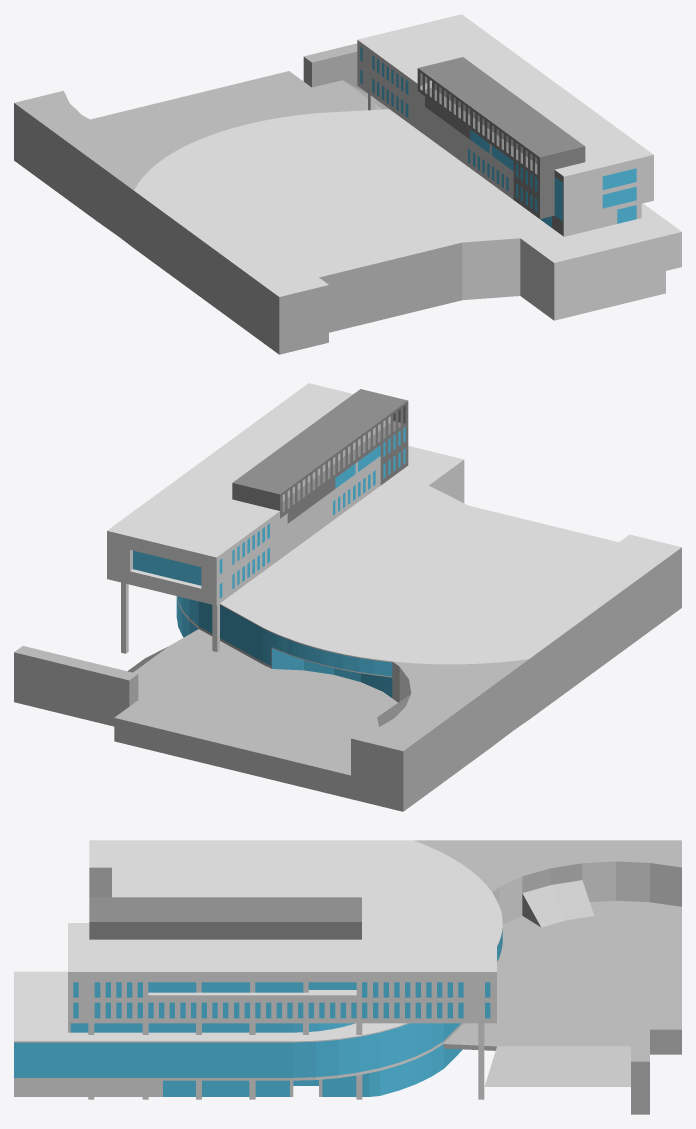
Rendered from KWSquare.glb.
3 renders of one model, top to bottom at view 1: azimuth 30°, elevation 25°; view 2: azimuth 150°, elevation 25°; view 3: azimuth 270°, elevation 25°, orthographic. The views are drawn at different scales.
Parts seen in each view (by area): view 1: White, Grey, Dark, Window; view 2: White, Grey, Dark, Window; view 3: White, Grey, Window, Dark.
Part boxes in pixels (x1,y1,x2,y2): White: (134, 14, 681, 320); Grey: (14, 43, 462, 354); Dark: (417, 57, 585, 235); Window: (360, 46, 636, 227); White: (107, 383, 681, 702); Grey: (14, 547, 681, 811); Dark: (232, 389, 408, 523); Window: (133, 427, 405, 697); White: (14, 840, 681, 1099); Grey: (89, 840, 681, 1114); Window: (14, 929, 502, 1096); Dark: (89, 897, 361, 939).
Bounding box in the file's own units: 78.9 × 26.26 × 106.
